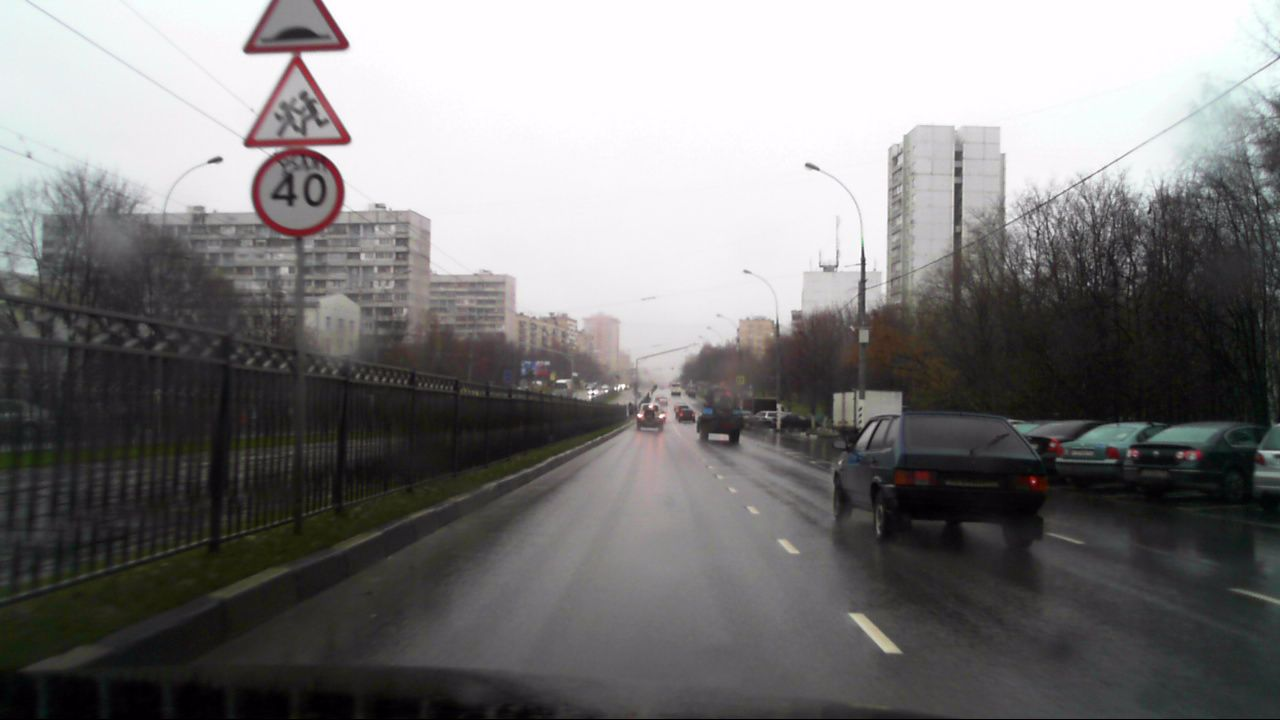speed_warning_40: (253, 150, 344, 236)
